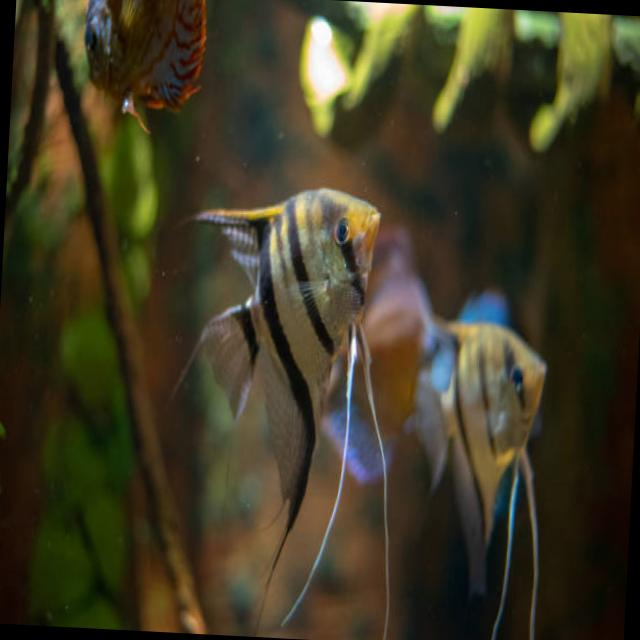AngelFish: (172, 182, 386, 582), (419, 305, 561, 640)
